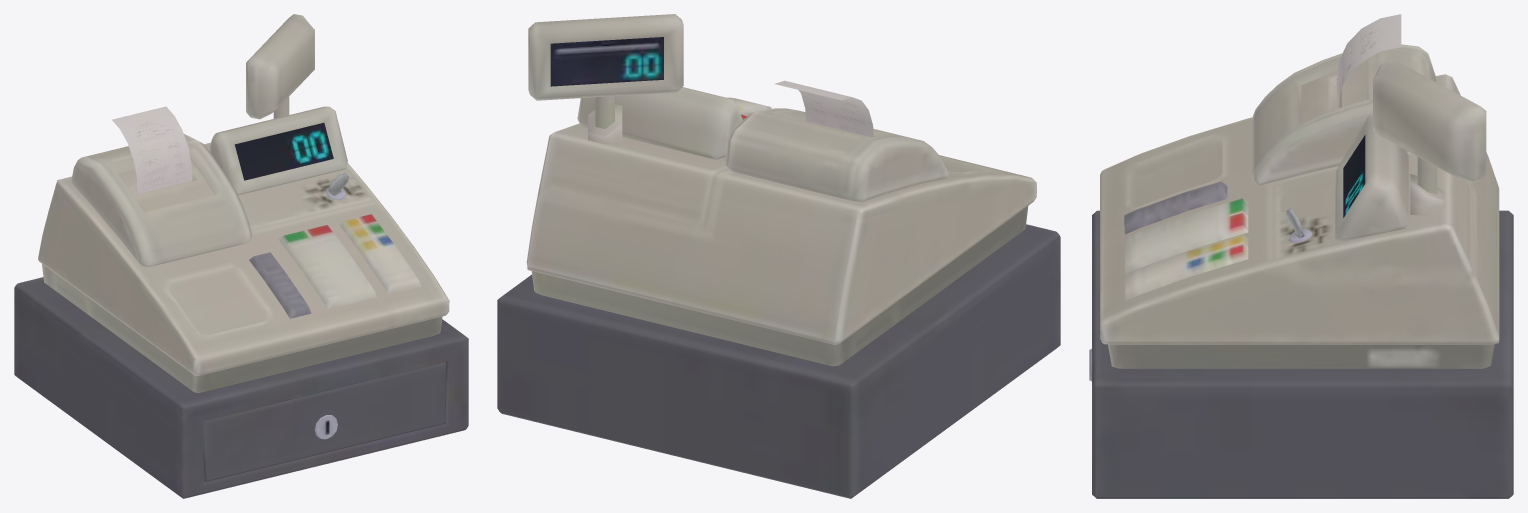
3 views of the same model, side by side, from view 1: azimuth 30°, elevation 25°; view 2: azimuth 150°, elevation 25°; view 3: azimuth 270°, elevation 25° (orthographic). The views are drawn at different scales.
Bounding box in the file's own units: 6.4 × 6.51 × 6.56.
Materials: 1 (1 with a texture image).
